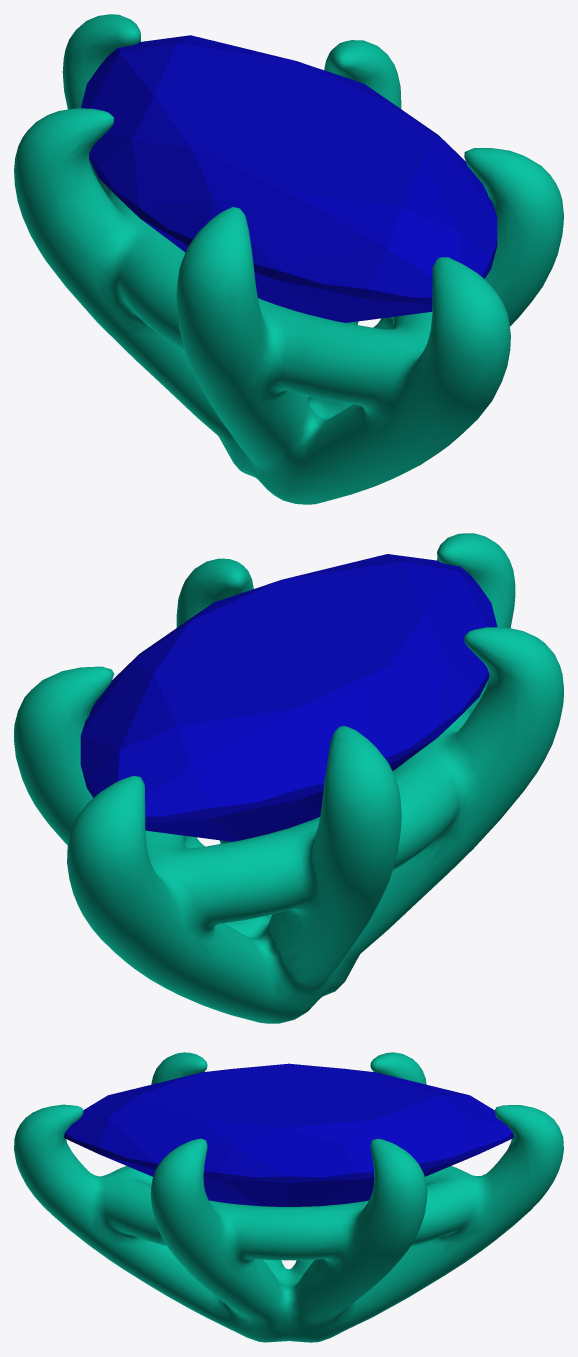
The model's file is Marquise.glb.
The picture shows the model from 3 angles, top to bottom: view 1: azimuth 30°, elevation 25°; view 2: azimuth 150°, elevation 25°; view 3: azimuth 270°, elevation 25°; orthographic projection. The views are drawn at different scales.
Parts seen in each view (by area): view 1: /GSMOD388300- CLAW PRONG_Marquise_IJ.3dm, Diamond_Marquise; view 2: /GSMOD388300- CLAW PRONG_Marquise_IJ.3dm, Diamond_Marquise; view 3: /GSMOD388300- CLAW PRONG_Marquise_IJ.3dm, Diamond_Marquise.
Boxes of the visible parts, <box> form: /GSMOD388300- CLAW PRONG_Marquise_IJ.3dm: <box>14,14,563,504</box>; Diamond_Marquise: <box>81,35,497,322</box>; /GSMOD388300- CLAW PRONG_Marquise_IJ.3dm: <box>14,533,563,1023</box>; Diamond_Marquise: <box>80,554,497,841</box>; /GSMOD388300- CLAW PRONG_Marquise_IJ.3dm: <box>14,1052,563,1342</box>; Diamond_Marquise: <box>64,1063,513,1206</box>.
Bounding box in the file's own units: 7.56 × 6.91 × 14.14.
